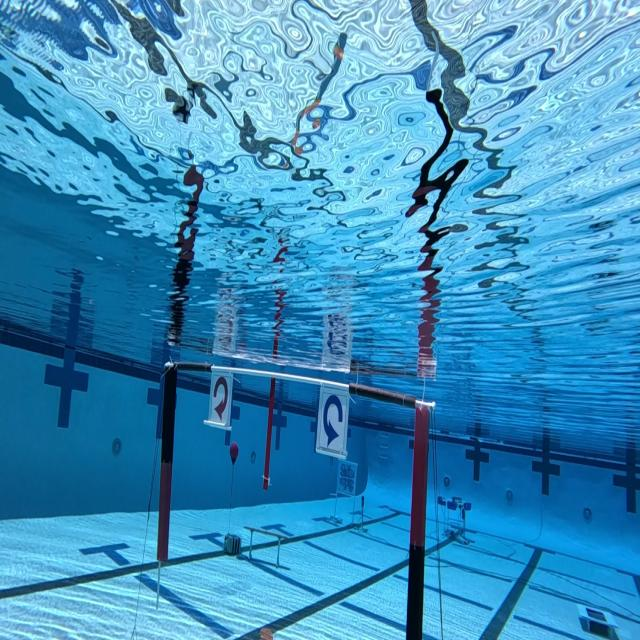blue_side: (317, 381, 354, 459)
red_side: (206, 365, 235, 427)
